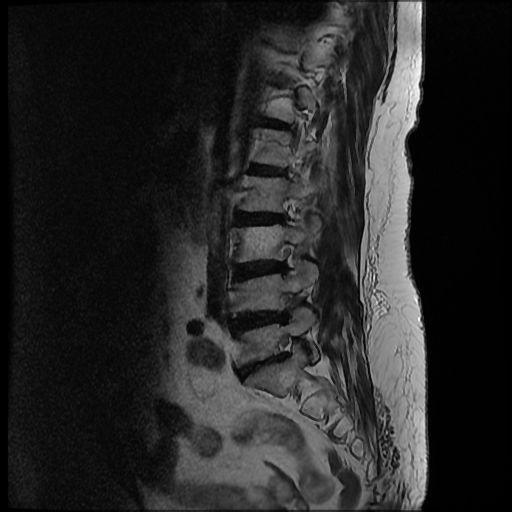RFS1: (270, 229, 304, 277)
RFS2: (267, 329, 302, 371)
RFS3: (268, 280, 302, 328)
